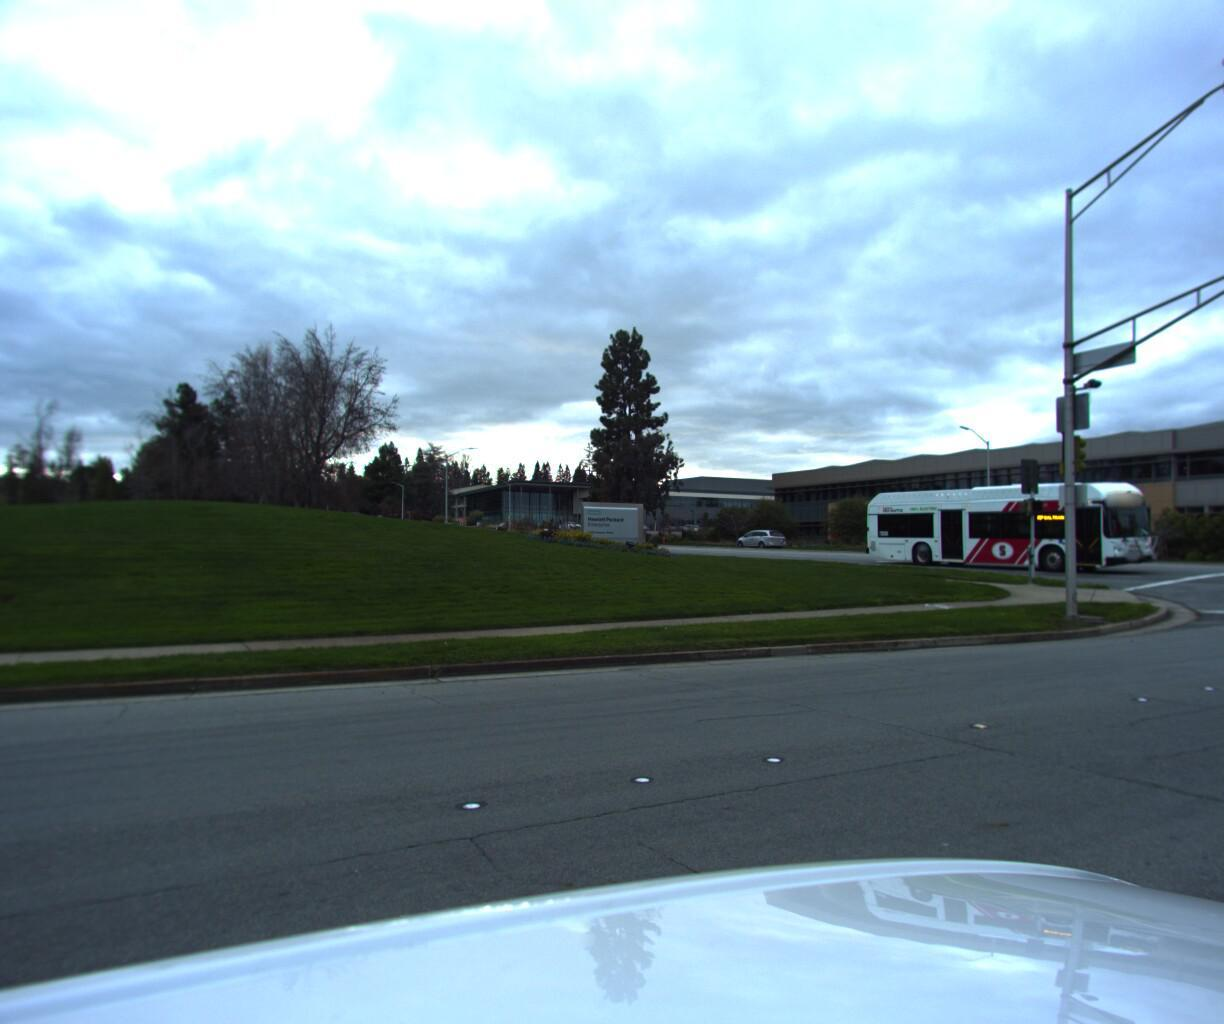bus: (847, 472, 1166, 571)
car: (736, 530, 789, 550)
